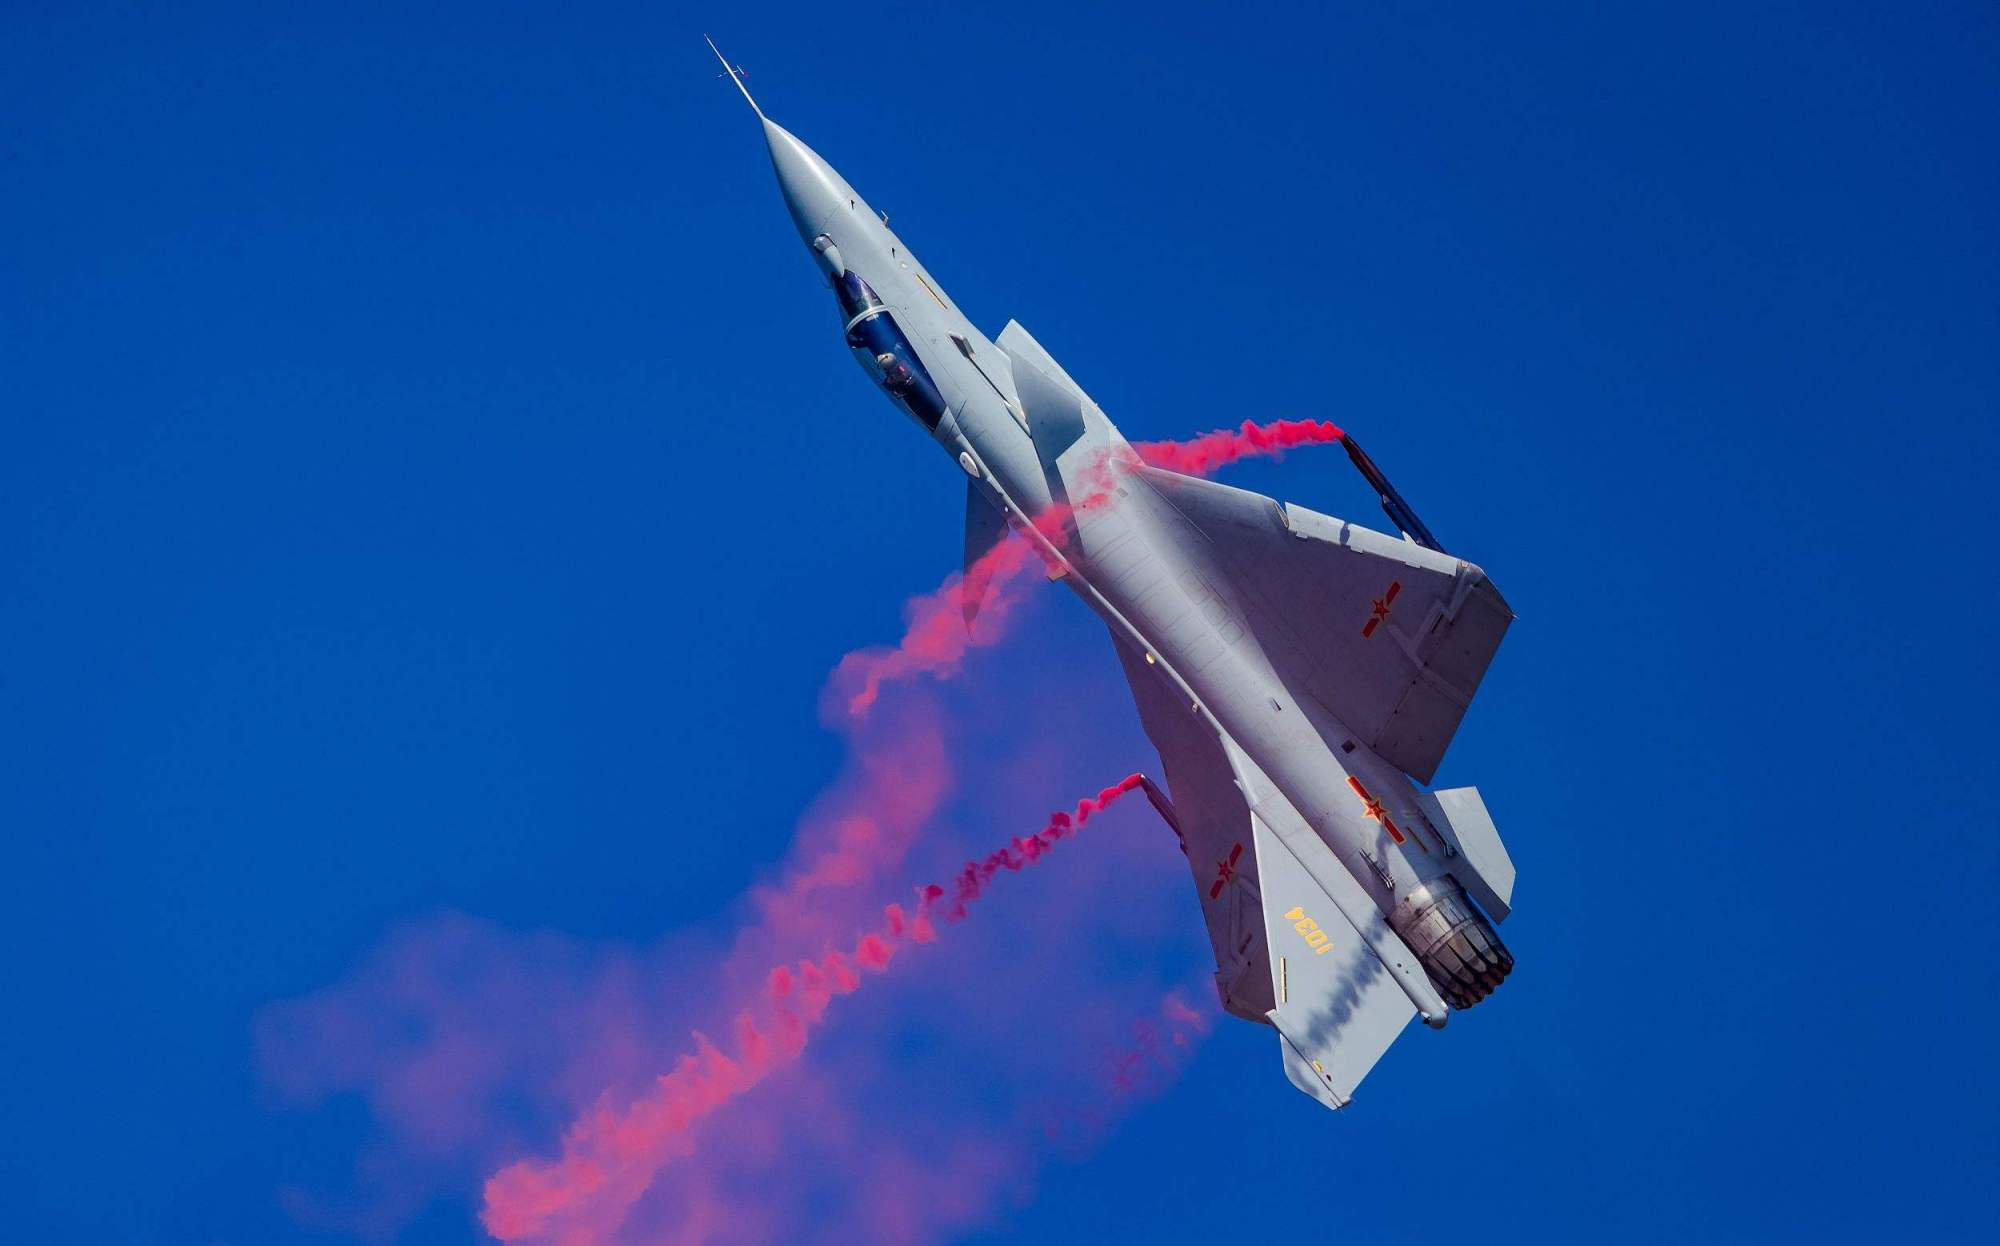airplane: (673, 34, 1541, 1100)
